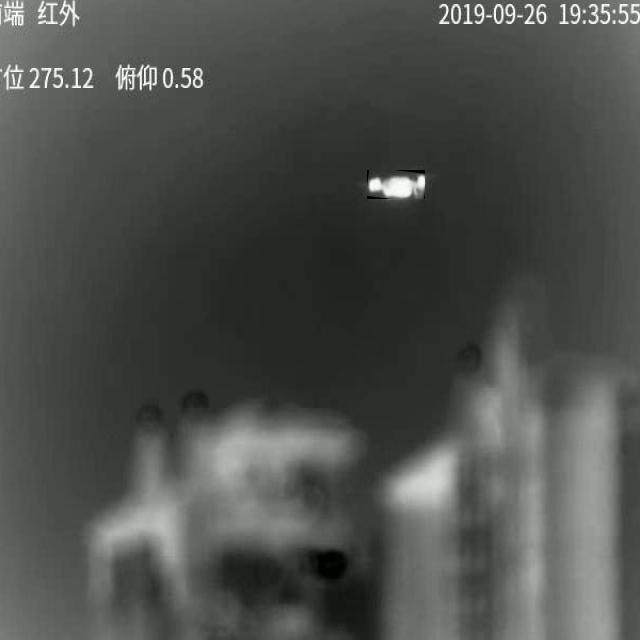drone: (367, 174, 425, 199)
